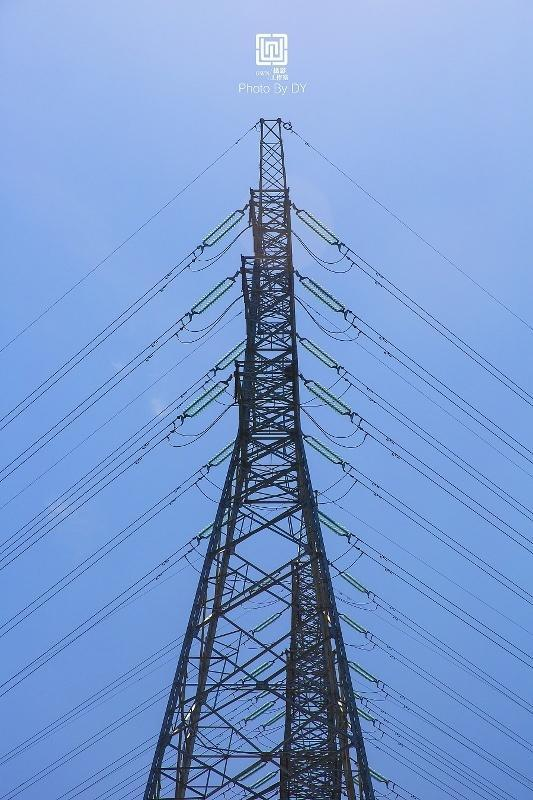power_tower: (135, 118, 406, 800)
